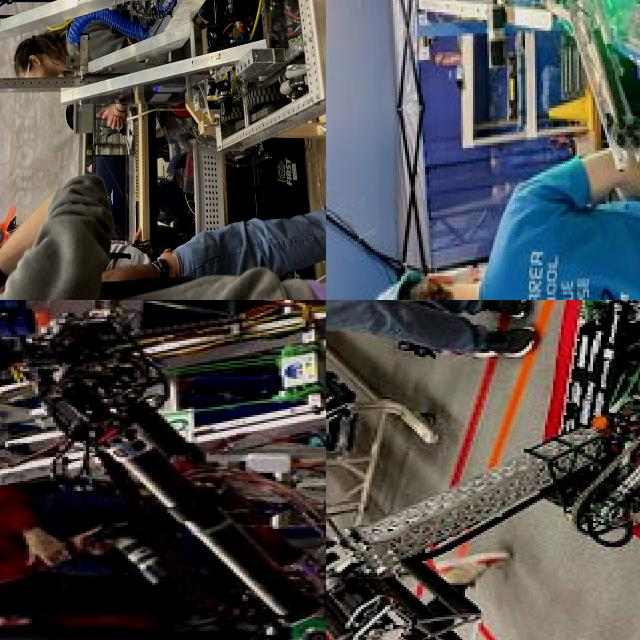FRC-Robots: (326, 300, 640, 640), (56, 368, 326, 640), (0, 0, 326, 171), (0, 300, 326, 467), (479, 0, 640, 154)
